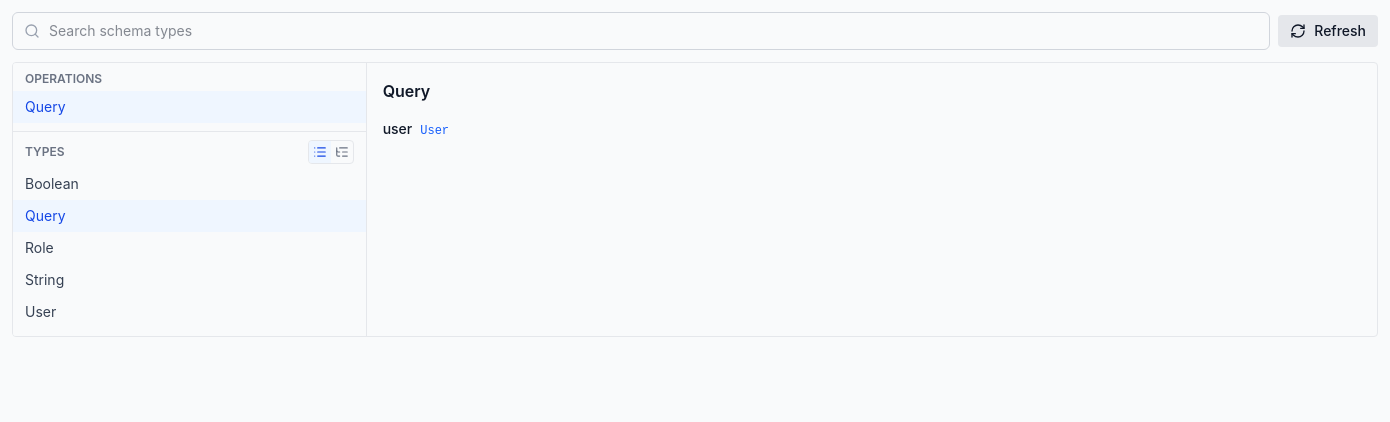
Test: GraphQLSchemaExplorer › renders an expandable tree of types in tree view
The width and height of the screenshot is (1390, 422).
What coordinates should you click on to do the following:
click the button named "Tree view"
I would click on:
 (342, 152)
Its box is [331,141,353,163].
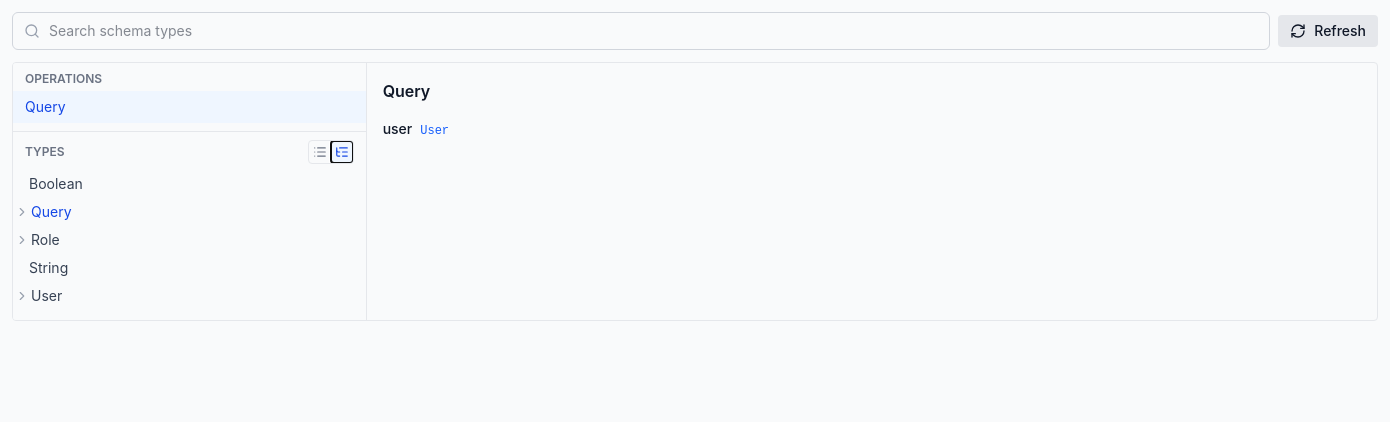
What coordinates should you click on to do the following:
click the button named "Expand Query"
I would click on:
 (22, 212)
Its box is [13,203,31,221].
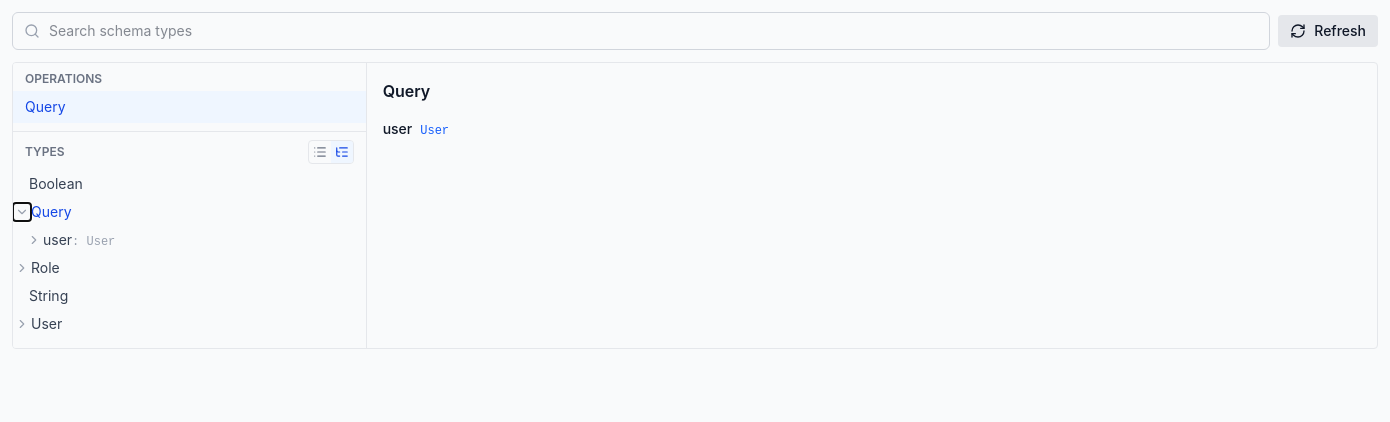
Now the button "user: User" is shown, box [43,226,366,254]
What coordinates should you click on to do the following:
click the button named "Expand user"
I would click on:
 (34, 240)
Its box is [25,231,43,249].
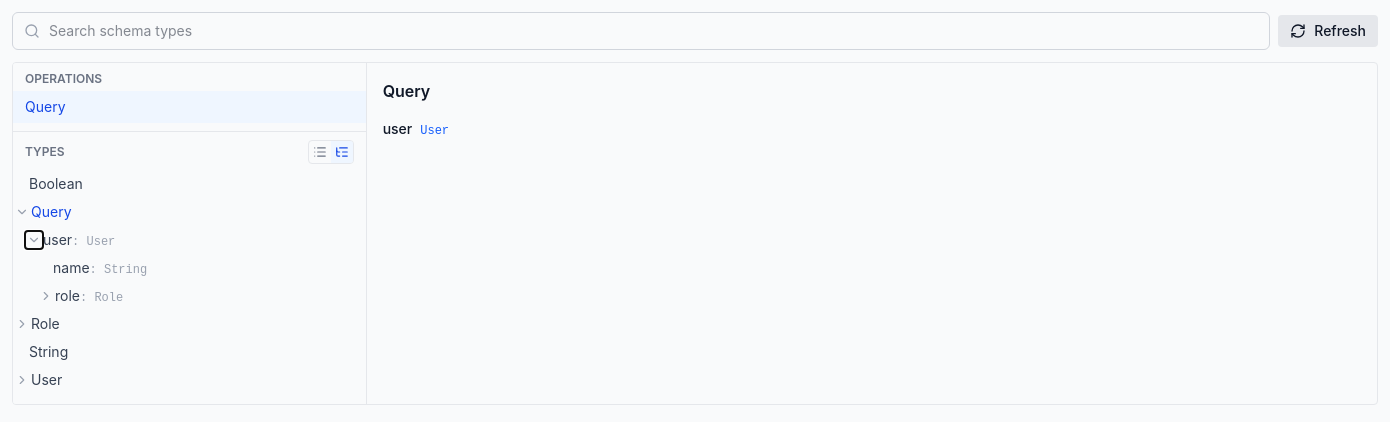
Now the button "name: String" is shown, box [53,254,366,282]
